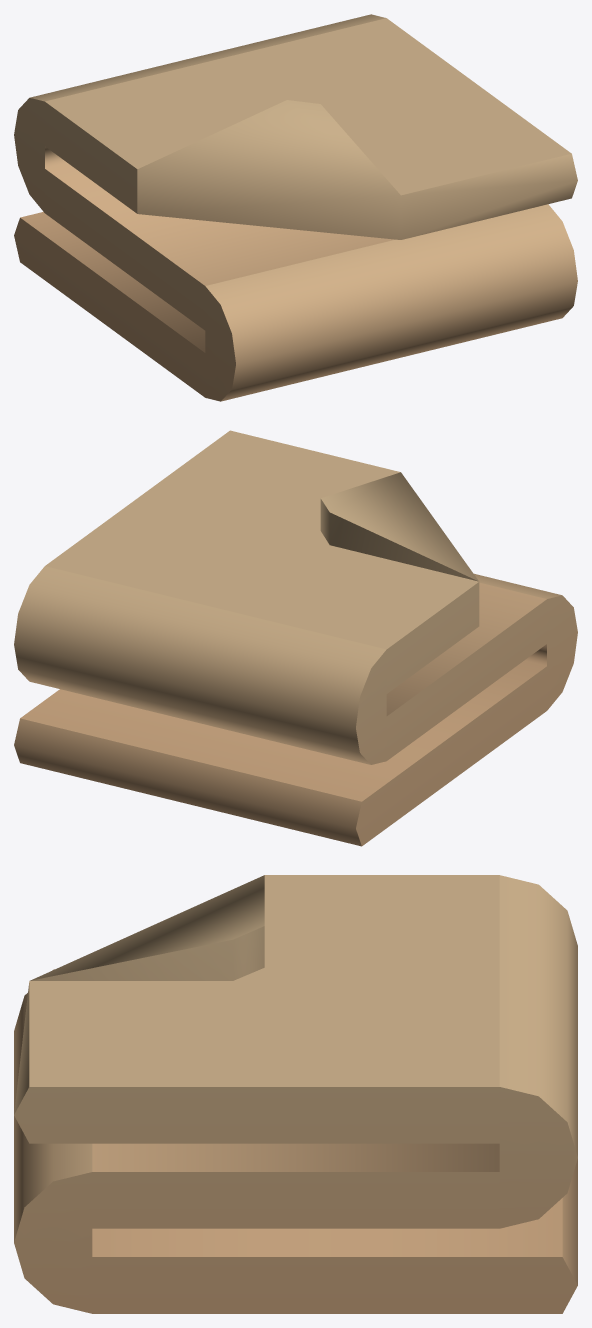
Rendered from plaid-double-folded.glb.
The picture shows the model from 3 angles, top to bottom: view 1: azimuth 30°, elevation 25°; view 2: azimuth 150°, elevation 25°; view 3: azimuth 270°, elevation 25°; orthographic projection. The views are drawn at different scales.
Visible parts, largest first — view 1: plaid-double-folded; view 2: plaid-double-folded; view 3: plaid-double-folded.
Boxes of the visible parts, box(x1,y1,x2,y2) form: plaid-double-folded: box(14, 14, 577, 401); plaid-double-folded: box(14, 430, 577, 846); plaid-double-folded: box(14, 875, 577, 1313).
Size of the model in its own units: 0.4 by 0.2368 by 0.4502.
